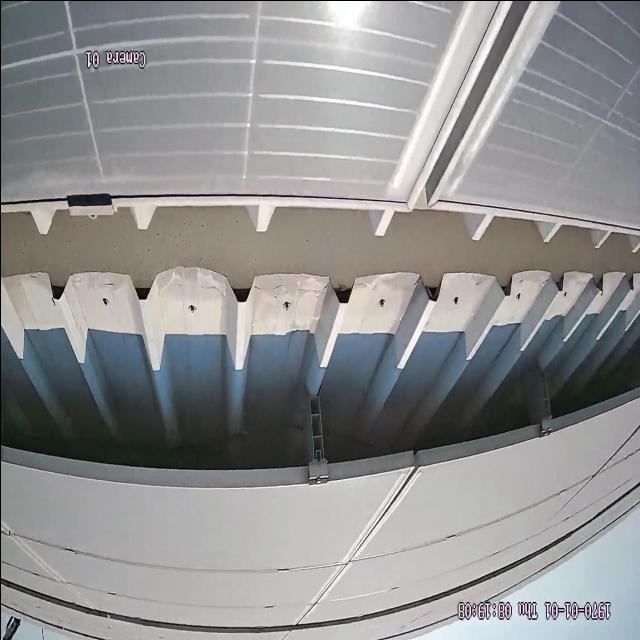interior panel: (389, 0, 561, 193), (298, 478, 413, 617), (0, 510, 75, 595)
outher panel: (0, 181, 638, 484)
